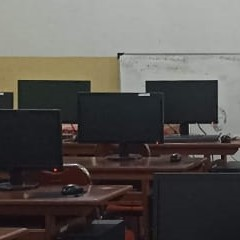monitor: (76, 92, 165, 145), (0, 109, 64, 171), (145, 80, 218, 125), (17, 80, 91, 124)
